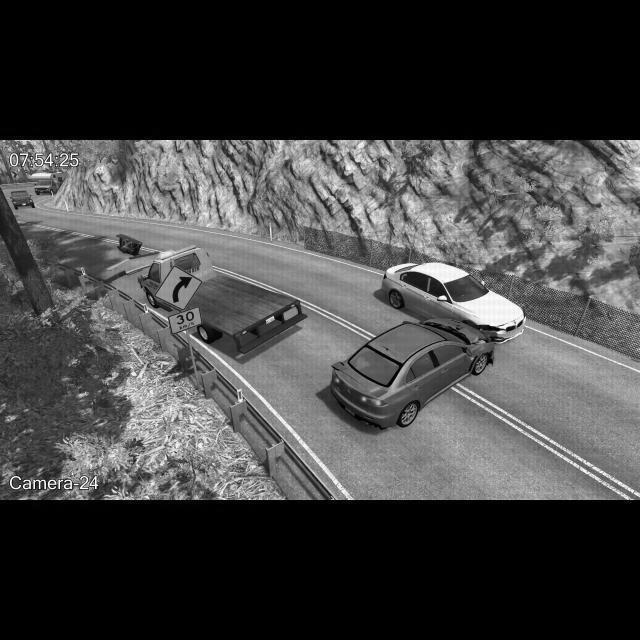accident: (327, 259, 531, 433)
vehicle: (137, 239, 307, 360), (7, 184, 39, 216)
